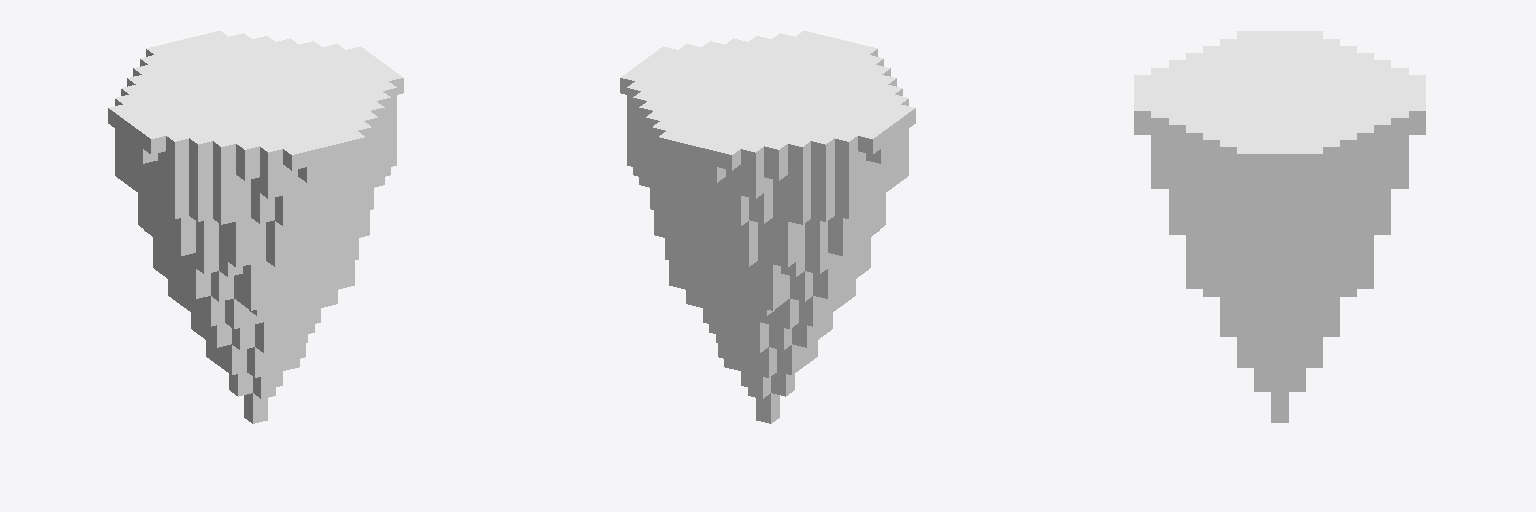
The model's file is 3DIcicle.obj.
3 views of the same model, side by side, from view 1: azimuth 30°, elevation 25°; view 2: azimuth 150°, elevation 25°; view 3: azimuth 270°, elevation 25° (orthographic).
Visible parts, largest first — view 1: Icicle-1; view 2: Icicle-1; view 3: Icicle-1.
Part boxes in pixels (left/top/right/bottom): Icicle-1: left=108, top=31, right=403, bottom=423; Icicle-1: left=620, top=31, right=915, bottom=423; Icicle-1: left=1134, top=31, right=1425, bottom=422.
Size of the model in its own units: 1.7 by 2.1 by 1.7.